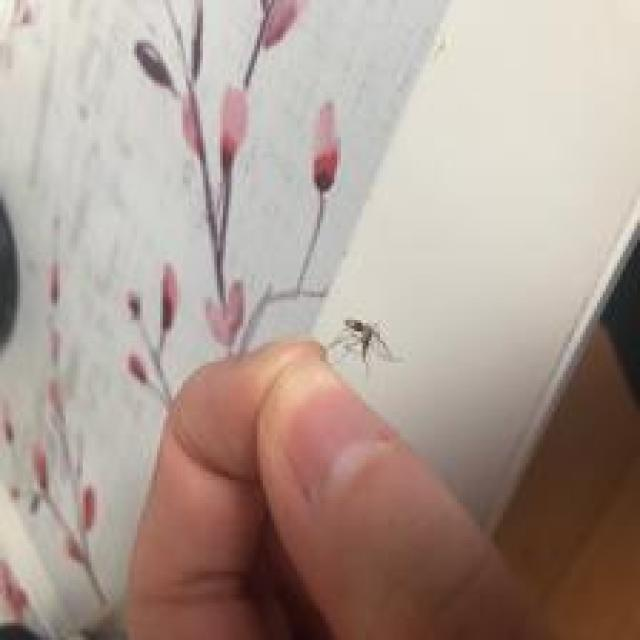Culex: (326, 316, 403, 373)
